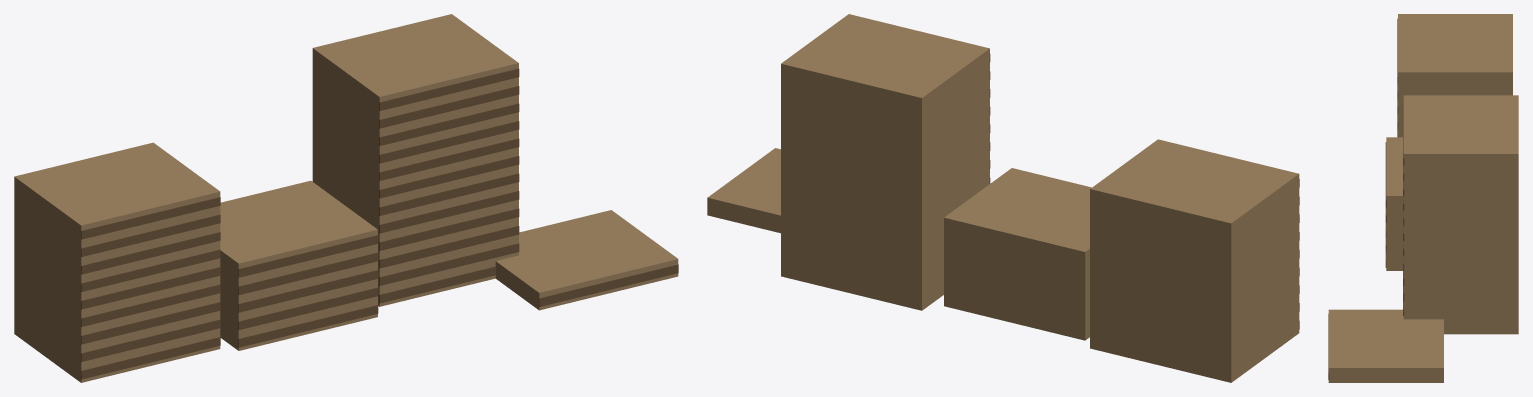
File: industrial.yard.pallets.glb
3 renders of one model, left to right at view 1: azimuth 30°, elevation 25°; view 2: azimuth 150°, elevation 25°; view 3: azimuth 270°, elevation 25°, orthographic. The views are drawn at different scales.
Visible parts, largest first — view 1: main__paint_985, main__paint_653; view 2: main__paint_985; view 3: main__paint_985, main__paint_653.
Part boxes in pixels (bbox=[...]): main__paint_985: bbox=[14, 14, 678, 382]; main__paint_653: bbox=[81, 68, 678, 379]; main__paint_985: bbox=[707, 14, 1299, 382]; main__paint_985: bbox=[1328, 14, 1518, 382]; main__paint_653: bbox=[1328, 18, 1404, 379].
Bounding box in the file's own units: 4.8 × 1.73 × 1.66.
